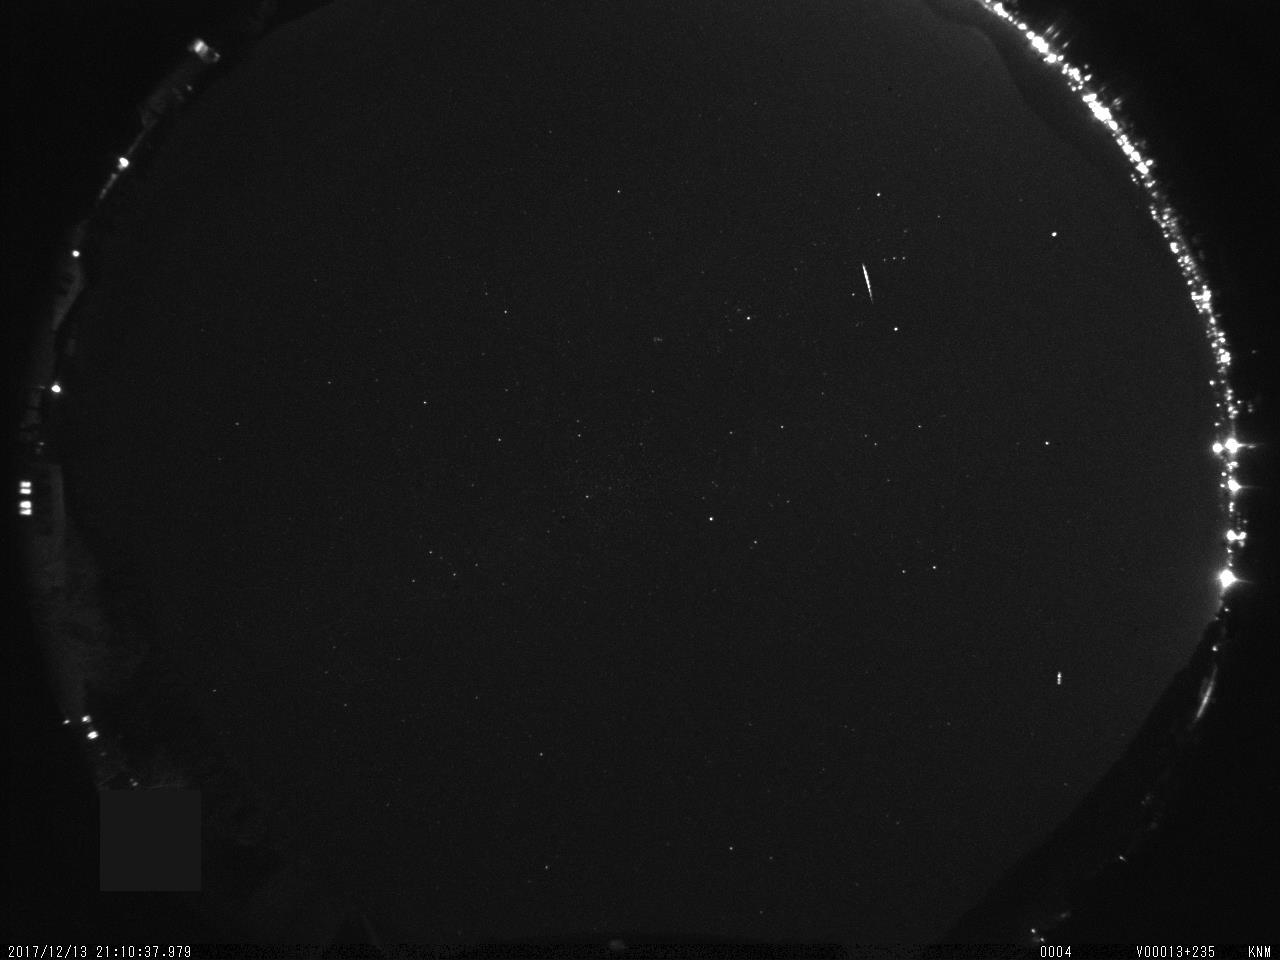meteor: (850, 255, 882, 304)
